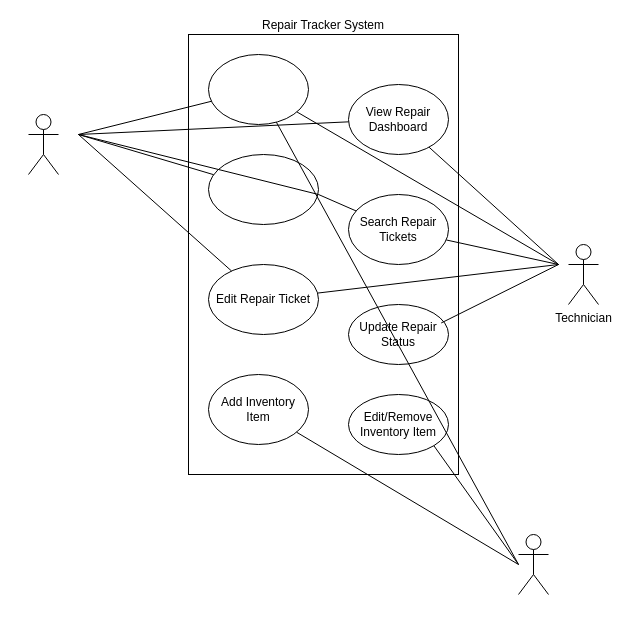
This 629x632 diagram has some shape labels left out. The box of each missing label's shape, as (x1, y1, x2, y2) in pixels:
Administrator: (518, 534, 548, 594)
Create Repair Ticket: (208, 154, 318, 224)
Employee: (28, 114, 58, 174)
Log In: (208, 54, 308, 124)
